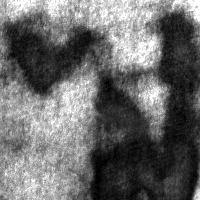patches: (129, 10, 198, 200), (47, 102, 177, 200), (87, 68, 172, 199), (38, 117, 150, 200), (6, 18, 90, 91), (126, 119, 200, 200)
